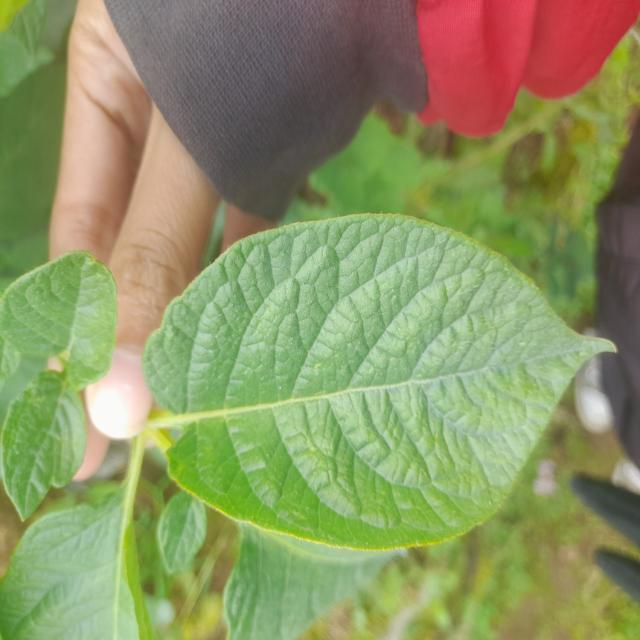healthy: (139, 210, 618, 555)
